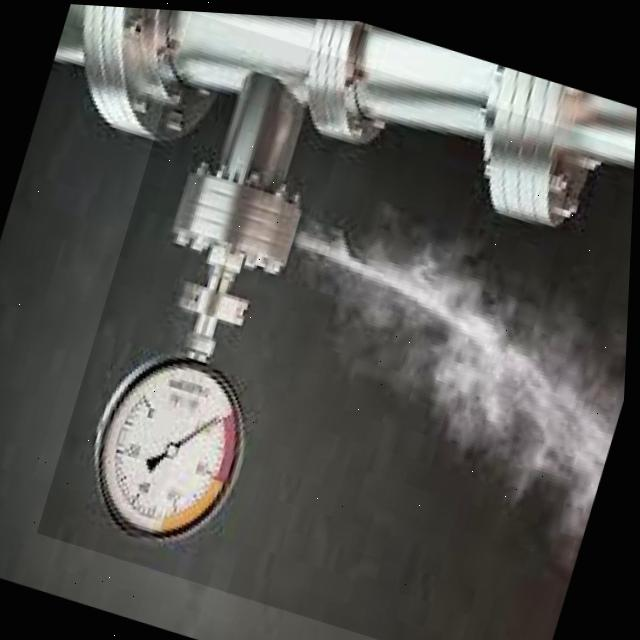corrosion: (25, 55, 638, 640)
